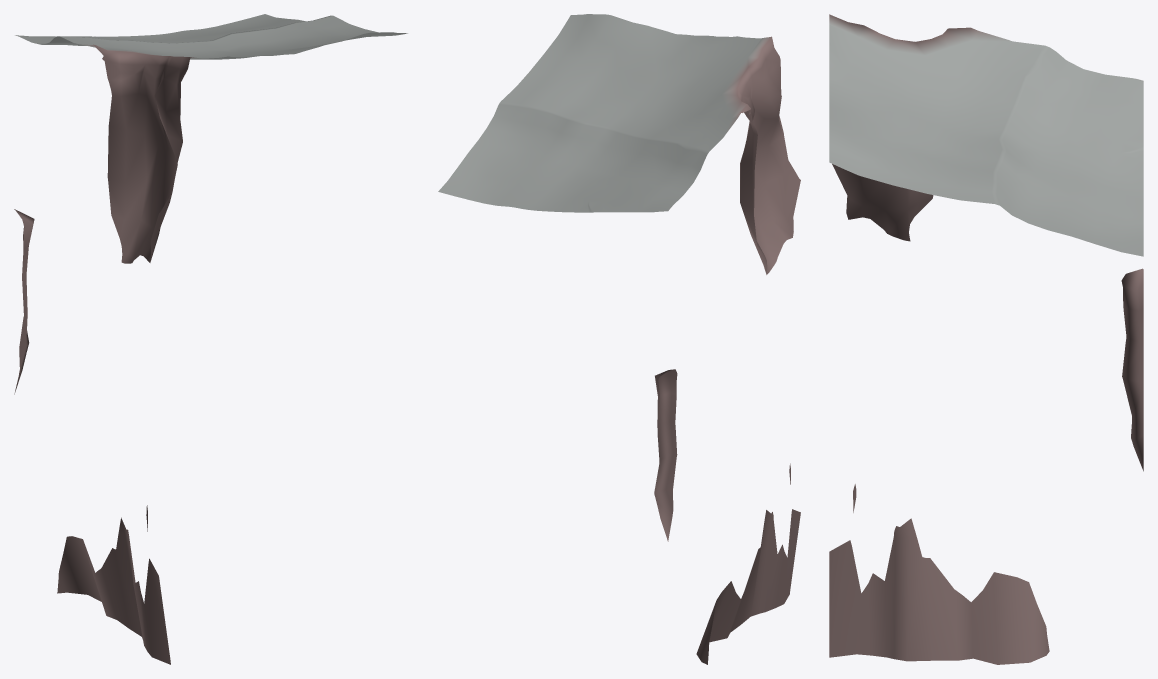
3 views of the same model, side by side, from view 1: azimuth 30°, elevation 25°; view 2: azimuth 150°, elevation 25°; view 3: azimuth 270°, elevation 25° (orthographic). The views are drawn at different scales.
Visible parts, largest first — view 1: G:\FFXIV-MapTools\exports\u5f1\bg\ex4\04_uvs_u5\fld\u5f1\bgp (×5); view 2: G:\FFXIV-MapTools\exports\u5f1\bg\ex4\04_uvs_u5\fld\u5f1\bgp (×6); view 3: G:\FFXIV-MapTools\exports\u5f1\bg\ex4\04_uvs_u5\fld\u5f1\bgp (×6).
Boxes of the visible parts, left/top/right/bottom form: G:\FFXIV-MapTools\exports\u5f1\bg\ex4\04_uvs_u5\fld\u5f1\bgp (×5): left=14, top=14, right=407, bottom=664; G:\FFXIV-MapTools\exports\u5f1\bg\ex4\04_uvs_u5\fld\u5f1\bgp (×6): left=438, top=14, right=800, bottom=664; G:\FFXIV-MapTools\exports\u5f1\bg\ex4\04_uvs_u5\fld\u5f1\bgp (×6): left=829, top=14, right=1143, bottom=664.
Size of the model in its own units: 128 by 294 by 128.
